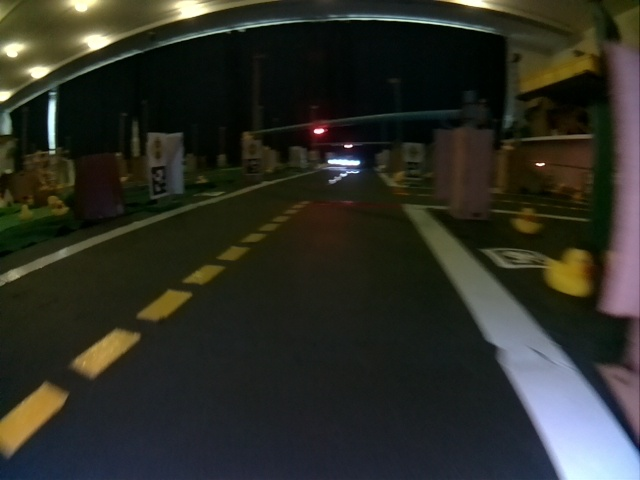Duckie: (548, 248, 595, 297), (513, 207, 543, 234), (19, 205, 34, 220)
Duckiebot: (328, 156, 360, 168)
Intersection sign: (406, 145, 422, 161)
QR code: (150, 165, 166, 195), (405, 161, 421, 179), (246, 158, 259, 174)
Signal sign: (149, 135, 167, 162)
Traffic light: (312, 123, 326, 135)
